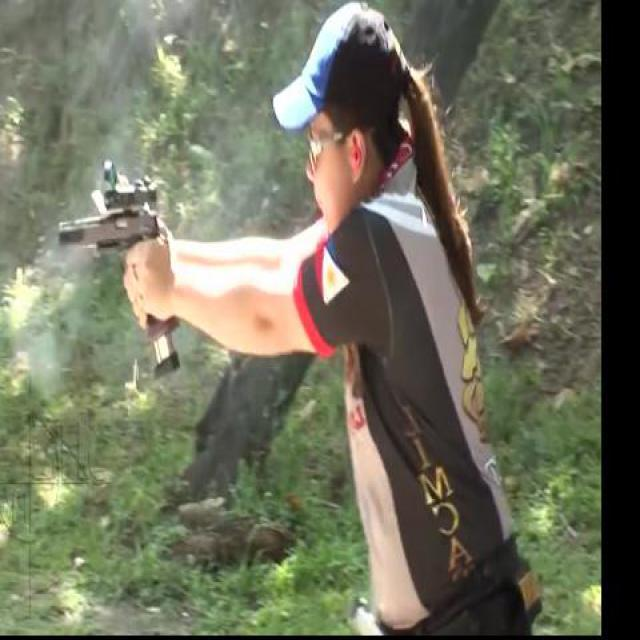Gun: (52, 175, 179, 373)
